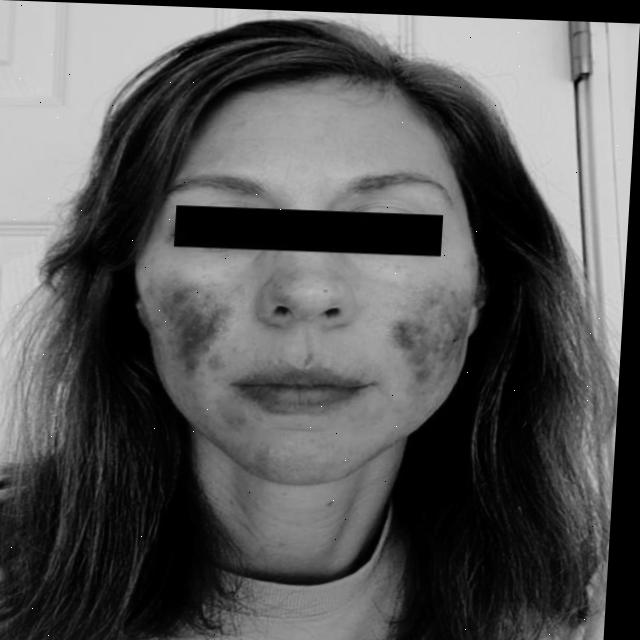Rosacea: (205, 407, 383, 485), (152, 267, 238, 366), (396, 289, 477, 380)
